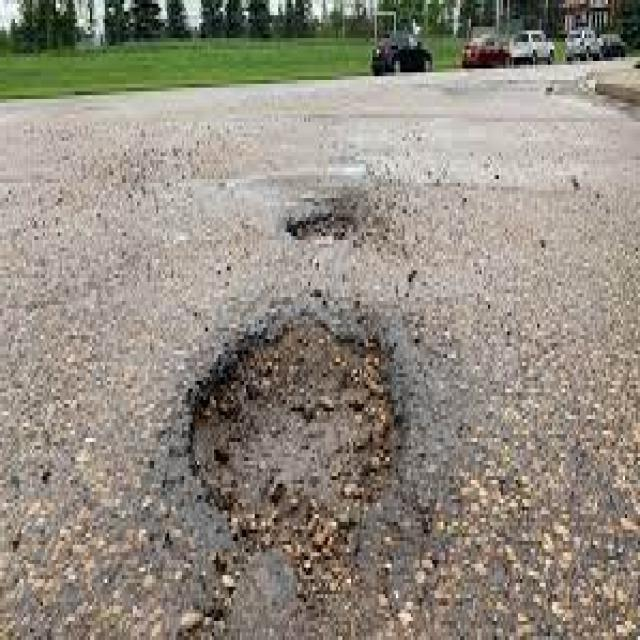Pothole: (194, 315, 394, 574), (286, 208, 358, 240)
